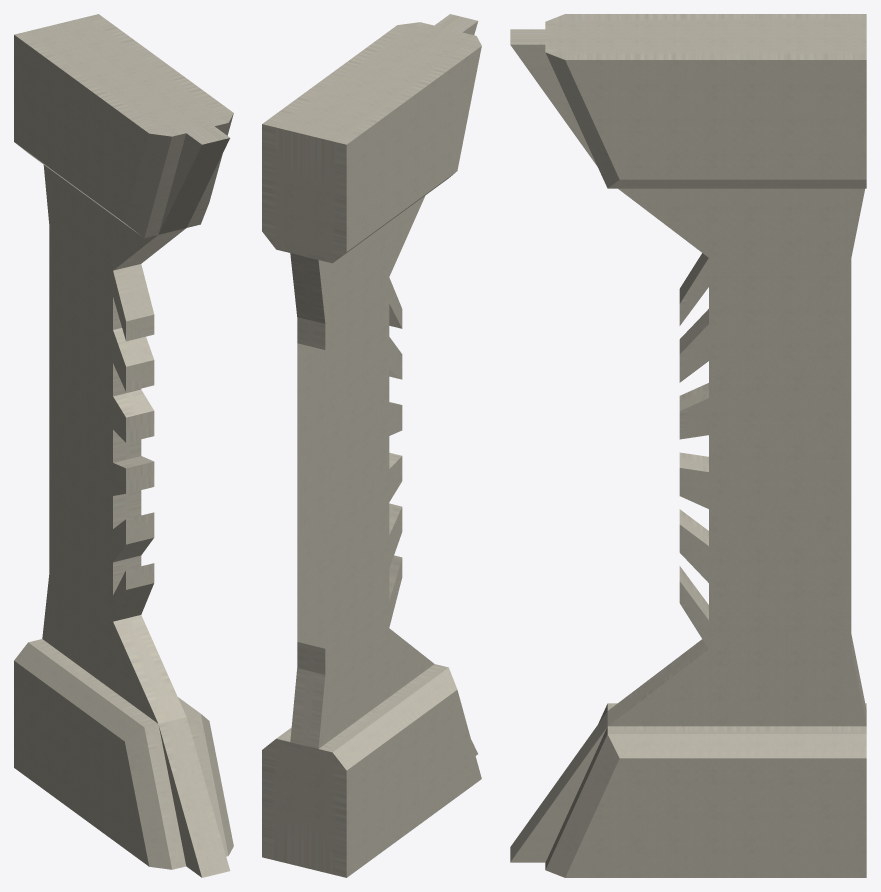
File: WallpCube126.fbx
3 renders of one model, left to right at view 1: azimuth 30°, elevation 25°; view 2: azimuth 150°, elevation 25°; view 3: azimuth 270°, elevation 25°, orthographic. The views are drawn at different scales.
Visible parts, largest first — view 1: pCube126; view 2: pCube126; view 3: pCube126.
Part boxes in pixels (x1,y1,x2,y2): pCube126: (14, 14, 233, 877); pCube126: (262, 14, 481, 877); pCube126: (510, 14, 866, 877).
Bounding box in the file's own units: 15.89 × 132 × 51.98.
